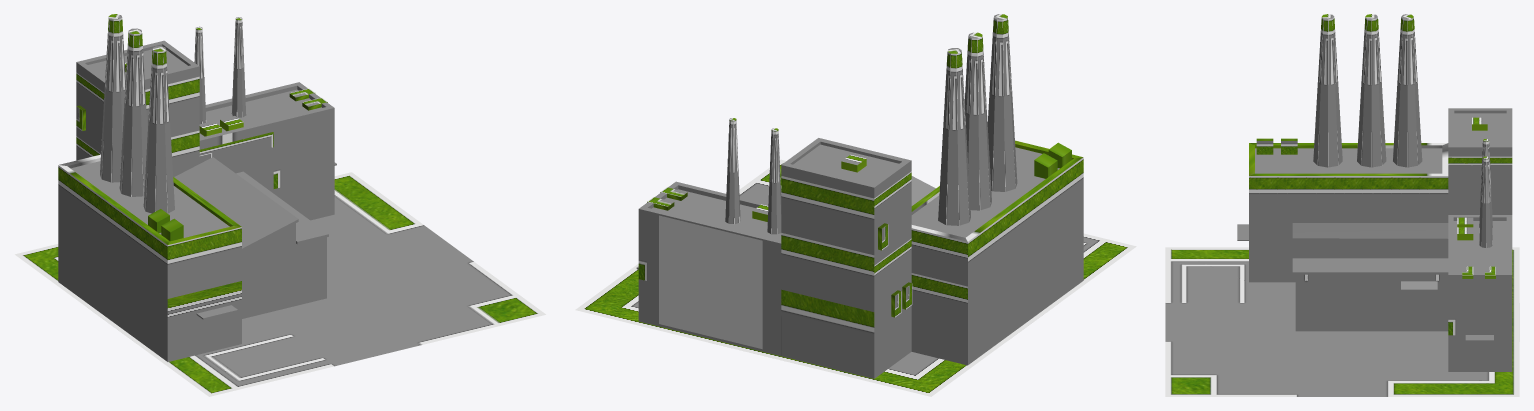
File: Factory_Lvl_5.fbx
3 views of the same model, side by side, from view 1: azimuth 30°, elevation 25°; view 2: azimuth 150°, elevation 25°; view 3: azimuth 270°, elevation 25° (orthographic). The views are drawn at different scales.
Visible parts, largest first — view 1: Factory_Lvl_5, Factory_BG; view 2: Factory_Lvl_5, Graffiti_001, Factory_BG; view 3: Factory_Lvl_5, Factory_BG.
Part boxes in pixels (x1=…): Factory_Lvl_5: x1=58, y1=14, x2=336, y2=361; Factory_BG: x1=15, y1=172, x2=545, y2=396; Factory_Lvl_5: x1=636, y1=14, x2=1083, y2=378; Graffiti_001: x1=659, y1=215, x2=762, y2=349; Factory_BG: x1=575, y1=159, x2=1136, y2=396; Factory_Lvl_5: x1=1237, y1=14, x2=1512, y2=371; Factory_BG: x1=1165, y1=247, x2=1519, y2=396.
Bounding box in the file's own units: 2000 × 1547 × 2000.
